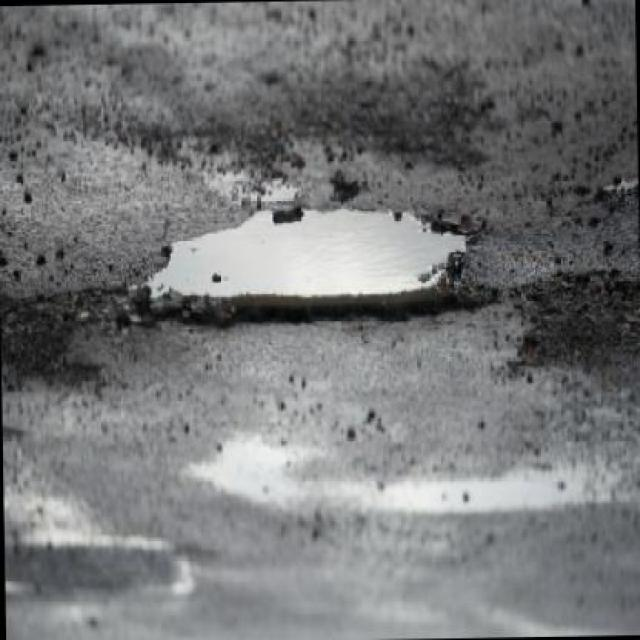pothole1: (125, 202, 482, 338)
